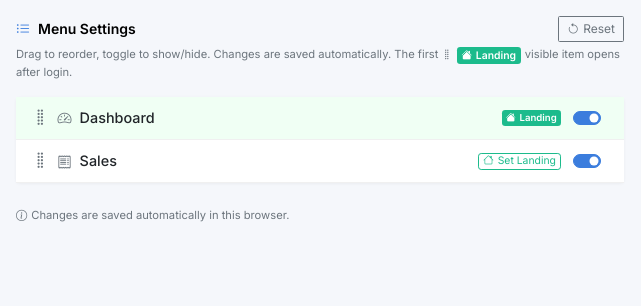
SidebarSettings save error visibility › sync error clears on next toggle
Click the switch named "Hide from sidebar" in the row of "Dashboard": (587, 118) x1=573 y1=111 x2=601 y2=125
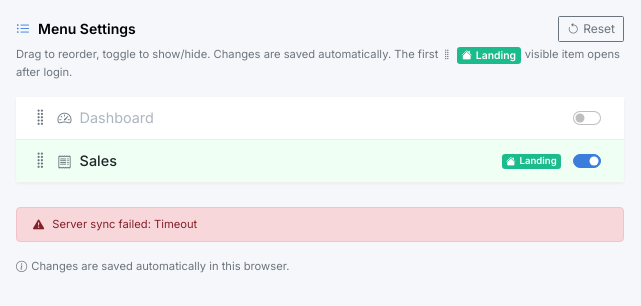
Expected: the text "Server sync failed: Timeout" is shown, x1=16 y1=208 x2=624 y2=242
Click the switch named "Hide from sidebar": (587, 161) x1=573 y1=154 x2=601 y2=168
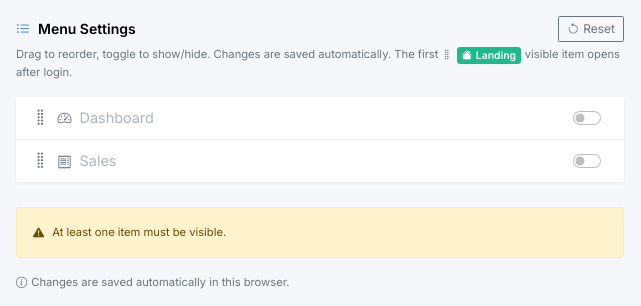
Expected: the text "Server sync failed" is gone
